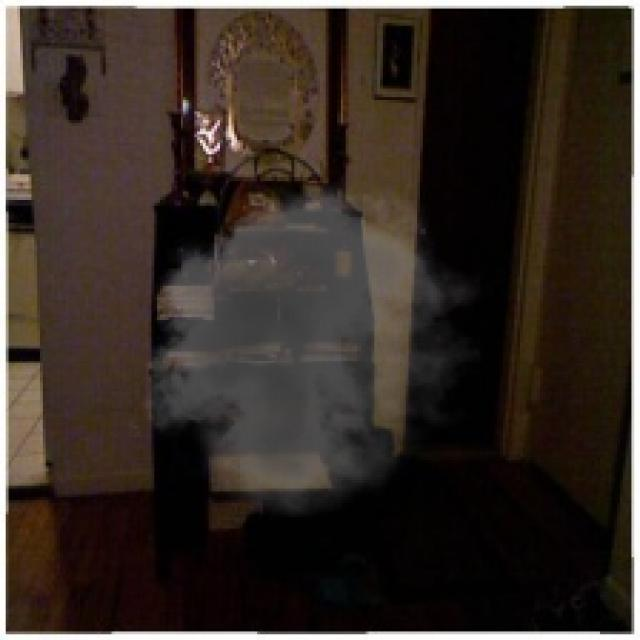Smoke: (128, 172, 483, 517)
